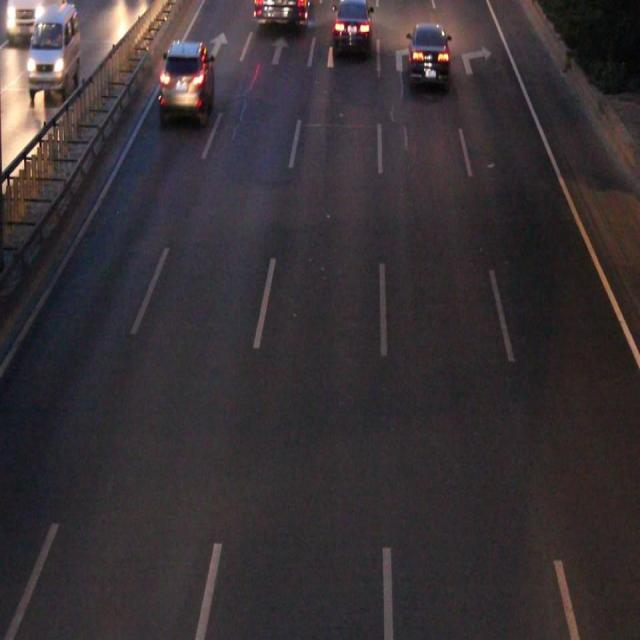car: (162, 44, 214, 114), (407, 26, 447, 84), (332, 1, 369, 50)
van: (253, 1, 310, 24)
